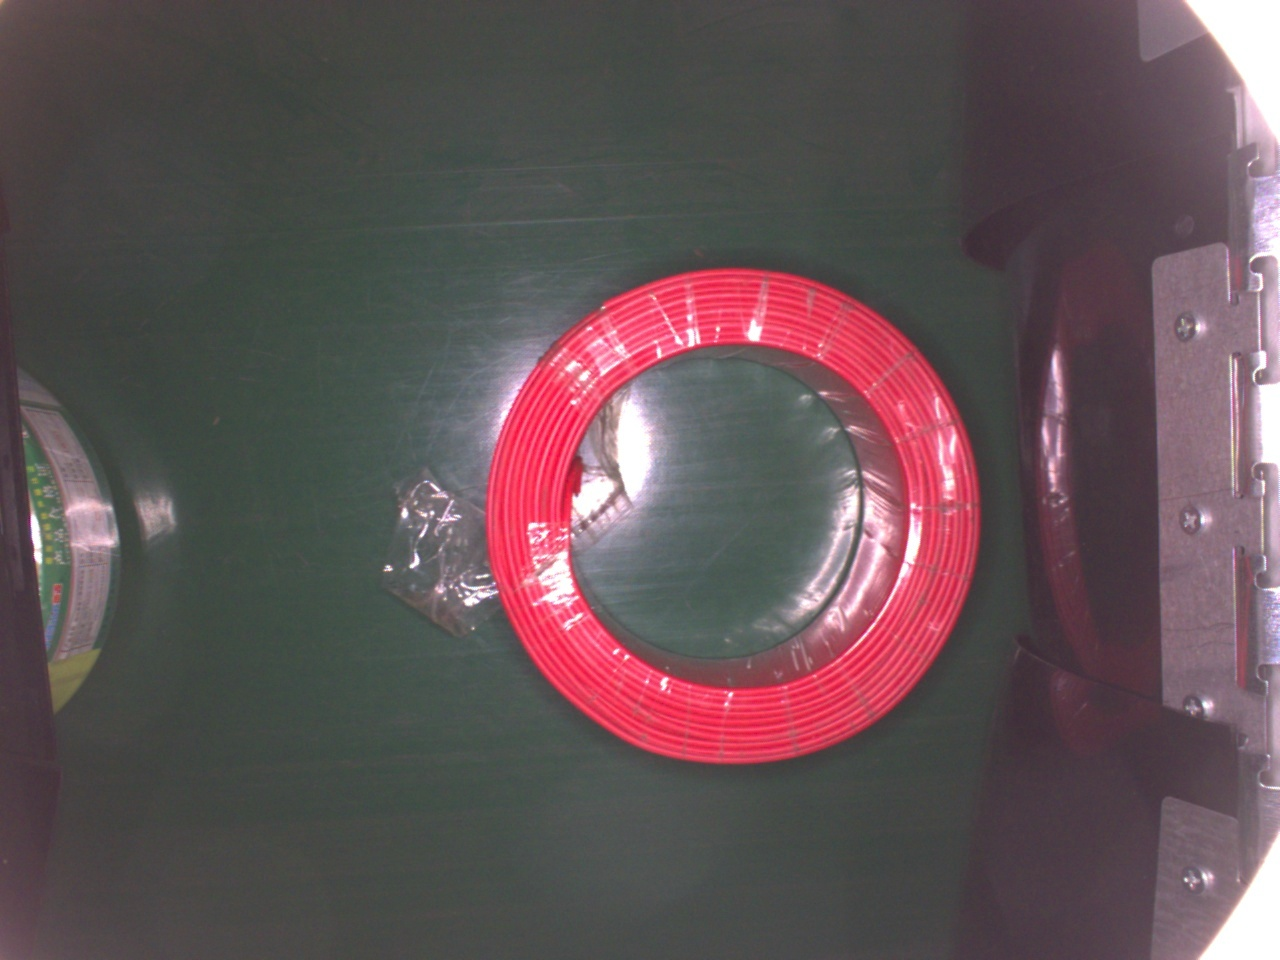red: (484, 262, 983, 773)
